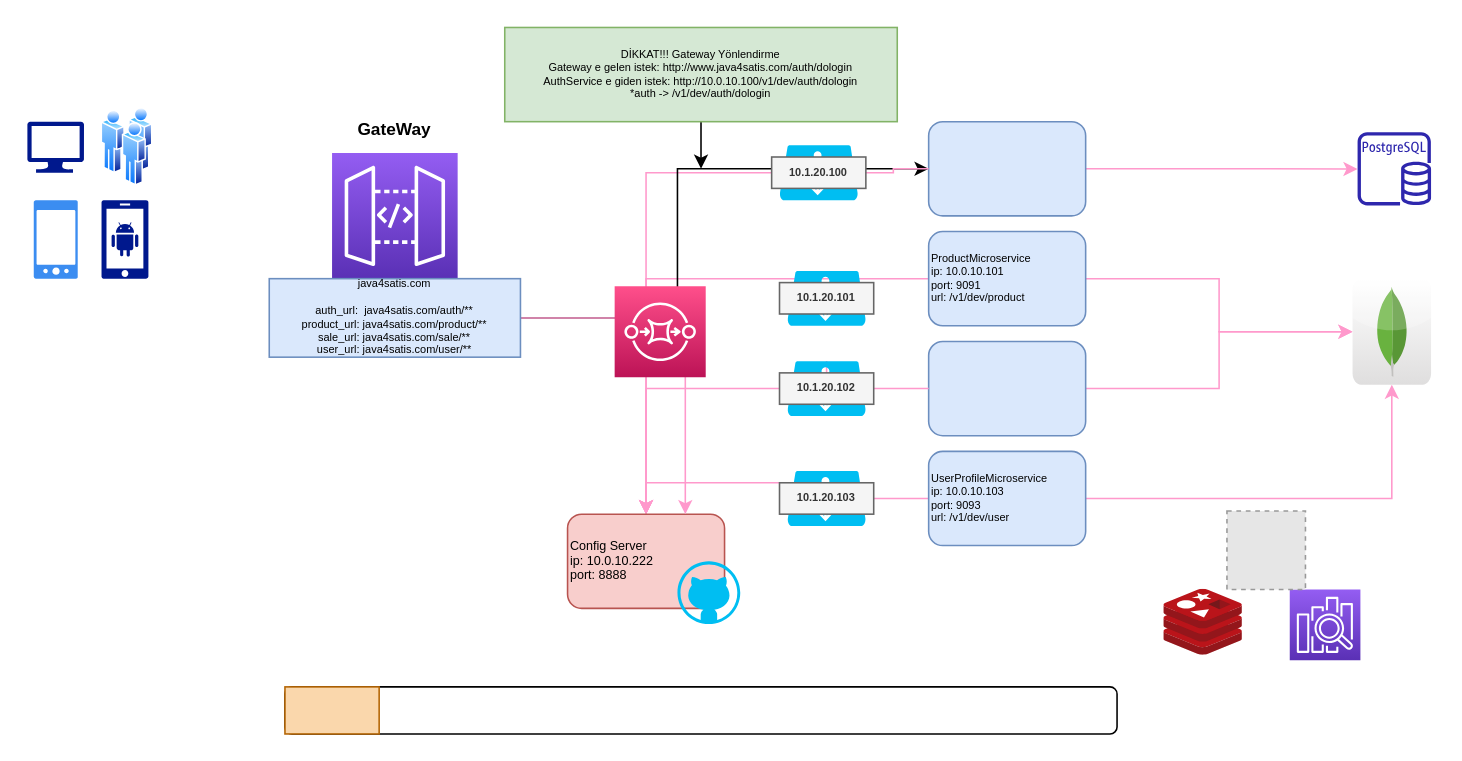
Image size: 1462x761. Some labels were removed from this diagram. Grey dashed boxes stand in for pictures. The centre of each missing label's shape, as x and y in pixels:
AuthMicroservice ip: 10.0.10.100 Port: 9090 url: /v1/dev/auth: (1006,168)
SalesMicroservice ip: 10.0.10.102 port: 9092 url: /v1/dev/sale: (1006,388)
Zipkin: (331,709)
